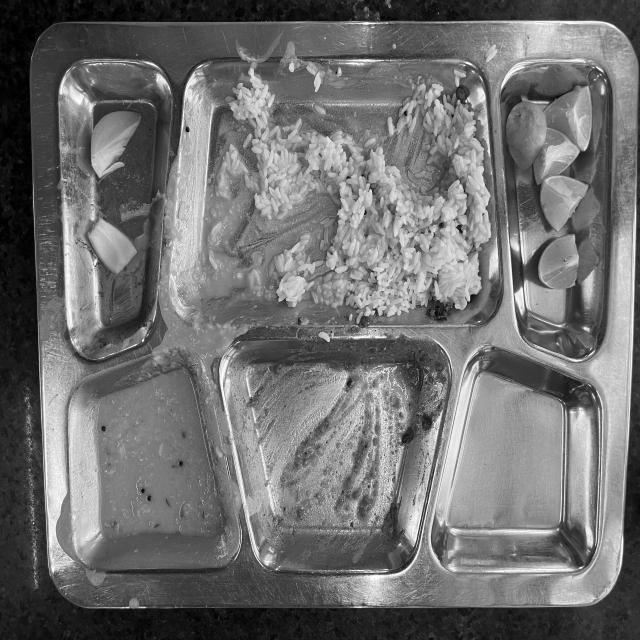20.0- Food Left: (38, 30, 606, 571)
